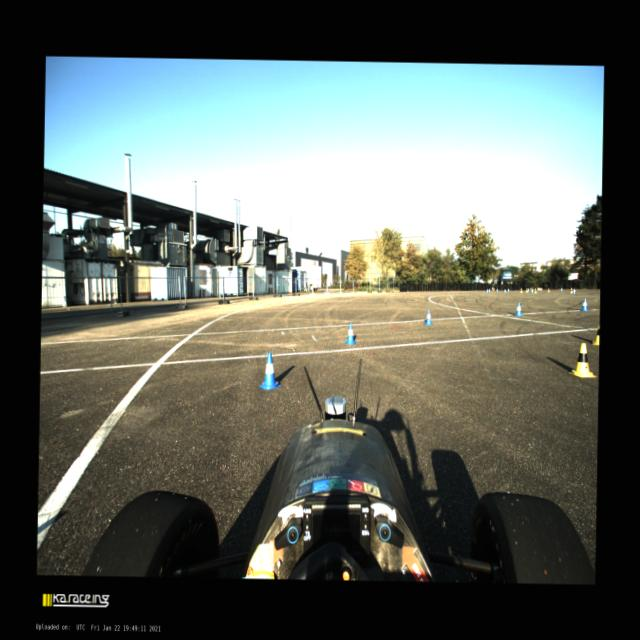blue_cone: (258, 352, 280, 390), (344, 323, 356, 344), (423, 309, 432, 325), (514, 302, 522, 316), (580, 298, 588, 310), (572, 288, 576, 294), (530, 288, 534, 293), (486, 288, 488, 293), (488, 288, 490, 292), (496, 288, 498, 292), (504, 288, 506, 292), (507, 288, 509, 292), (527, 287, 529, 291), (560, 287, 562, 291)
yellow_cone: (568, 342, 596, 377), (592, 324, 599, 345), (570, 286, 572, 294), (547, 287, 550, 292), (526, 287, 528, 292), (520, 288, 522, 292), (534, 288, 536, 292)
